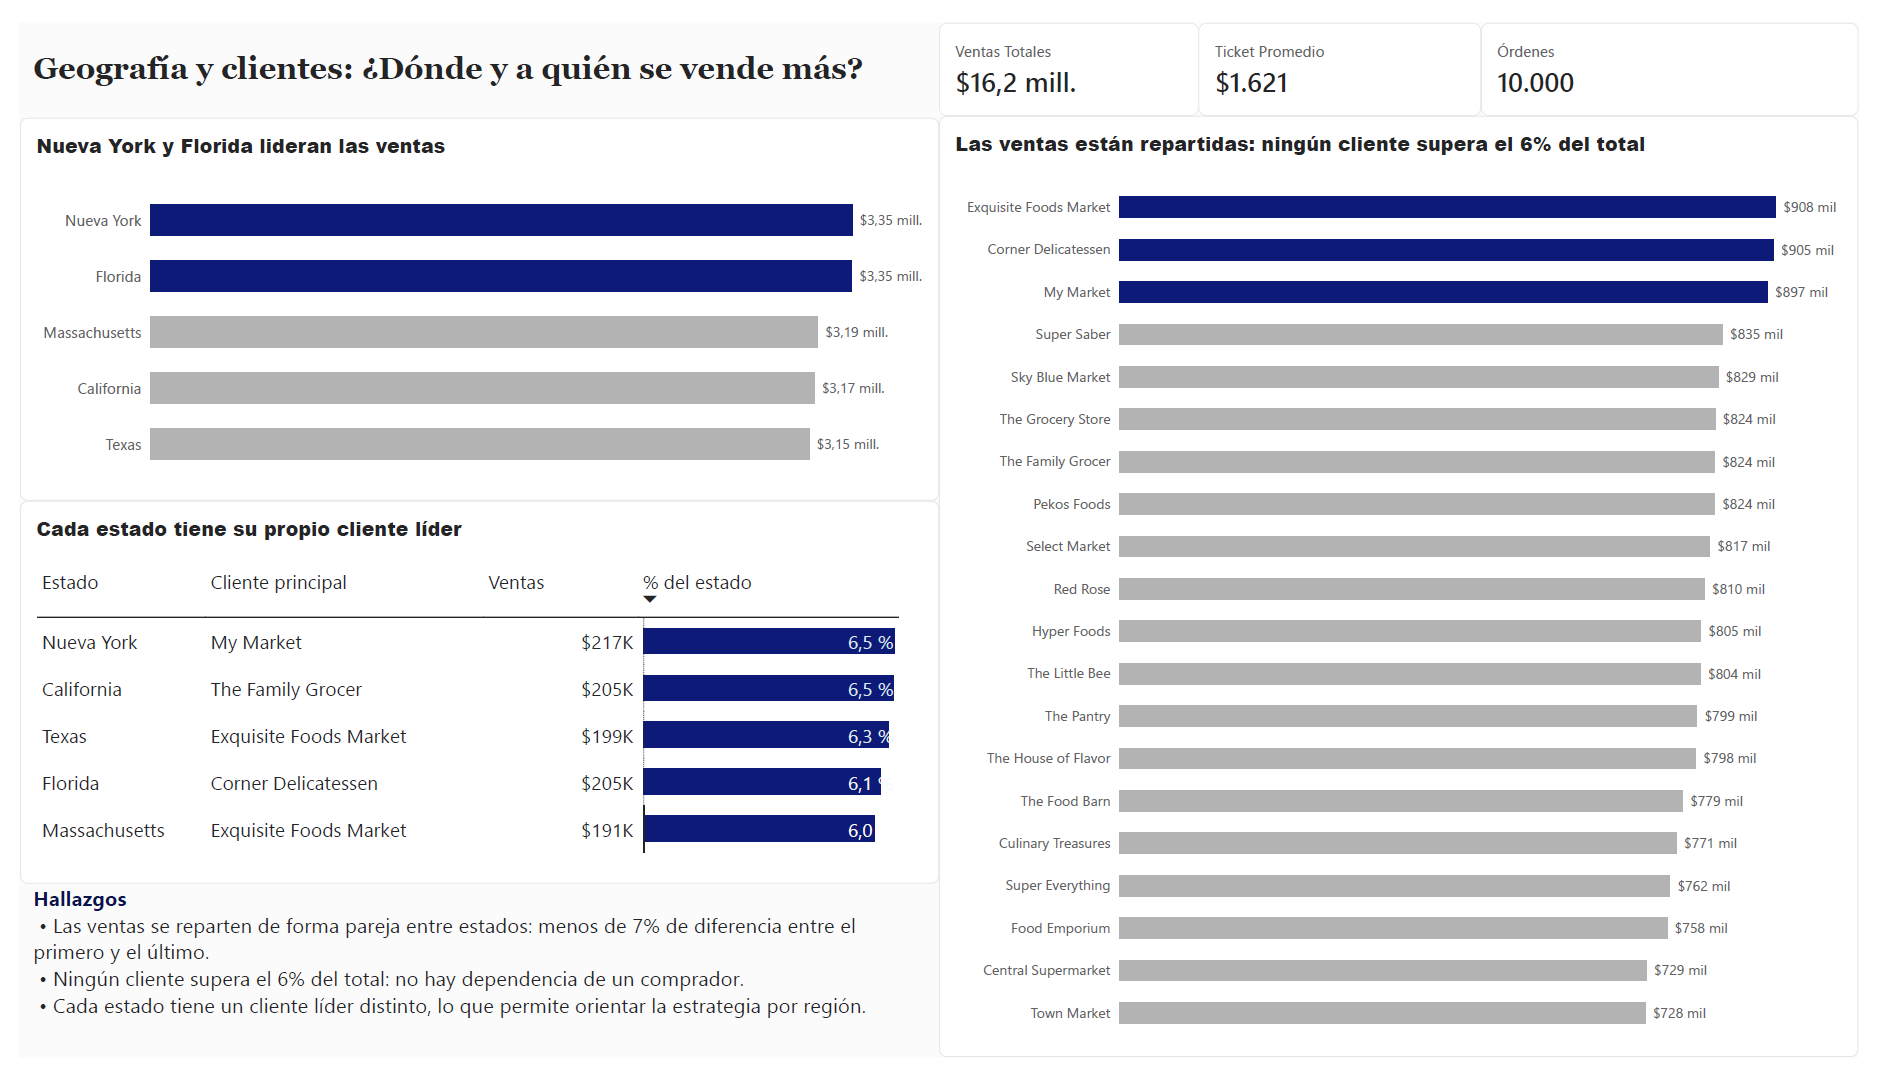

What the dashboard file says about the page in this screenshot:
{"tool":"powerbi","page":{"name":"Página 1","canvas":[1920,1080],"ordinal":0},"visuals":[{"type":"cardVisual","fields":{"Data":["dataset_ventas_lacteos_2024.Ventas Totales"]},"box":[960,0,271.4,97.1],"z":0},{"type":"cardVisual","fields":{"Data":["dataset_ventas_lacteos_2024.Ticket Promedio"]},"box":[1231.4,0,294.3,97.1],"z":1000},{"type":"cardVisual","fields":{"Data":["dataset_ventas_lacteos_2024.Órdenes"]},"box":[1525.7,0,394.3,97.1],"z":2000},{"type":"clusteredBarChart","title":"Nueva York y Florida lideran las ventas","fields":{"Category":["dataset_ventas_lacteos_2024.Estado"],"Y":["dataset_ventas_lacteos_2024.Ventas Totales"]},"box":[0,98.6,960,400],"z":3000},{"type":"clusteredBarChart","title":"Las ventas están repartidas: ningún cliente supera el 6% del total","fields":{"Category":["dataset_ventas_lacteos_2024.Nombre del supermercado"],"Y":["dataset_ventas_lacteos_2024.Ventas Totales"]},"box":[960,97.1,960,982.9],"z":4000},{"type":"textbox","box":[14.3,28.6,945.7,70],"z":5000},{"type":"tableEx","title":"Cada estado tiene su propio cliente líder","fields":{"Values":["dataset_ventas_lacteos_2024.Estado","dataset_ventas_lacteos_2024.Cliente principal","dataset_ventas_lacteos_2024.Ventas cliente principal","dataset_ventas_lacteos_2024.% del estado"]},"box":[0,498.6,960,400],"z":6000},{"type":"textbox","box":[14.3,898.6,920,181.4],"z":7000}]}

Visuals, with their boxes in screenshot pixels (x1, y1, x2, y2), scaled from the page's 1920x1080 canvas onto the 1879x1079 screenshot:
cardVisual - dataset_ventas_lacteos_2024.Ventas Totales: [940, 0, 1205, 97]
cardVisual - dataset_ventas_lacteos_2024.Ticket Promedio: [1205, 0, 1493, 97]
cardVisual - dataset_ventas_lacteos_2024.Órdenes: [1493, 0, 1878, 97]
"Nueva York y Florida lideran las ventas" clusteredBarChart: [0, 99, 940, 498]
"Las ventas están repartidas: ningún cliente supera el 6% del total" clusteredBarChart: [940, 97, 1878, 1078]
textbox: [14, 29, 940, 99]
"Cada estado tiene su propio cliente líder" tableEx: [0, 498, 940, 898]
textbox: [14, 898, 914, 1078]
